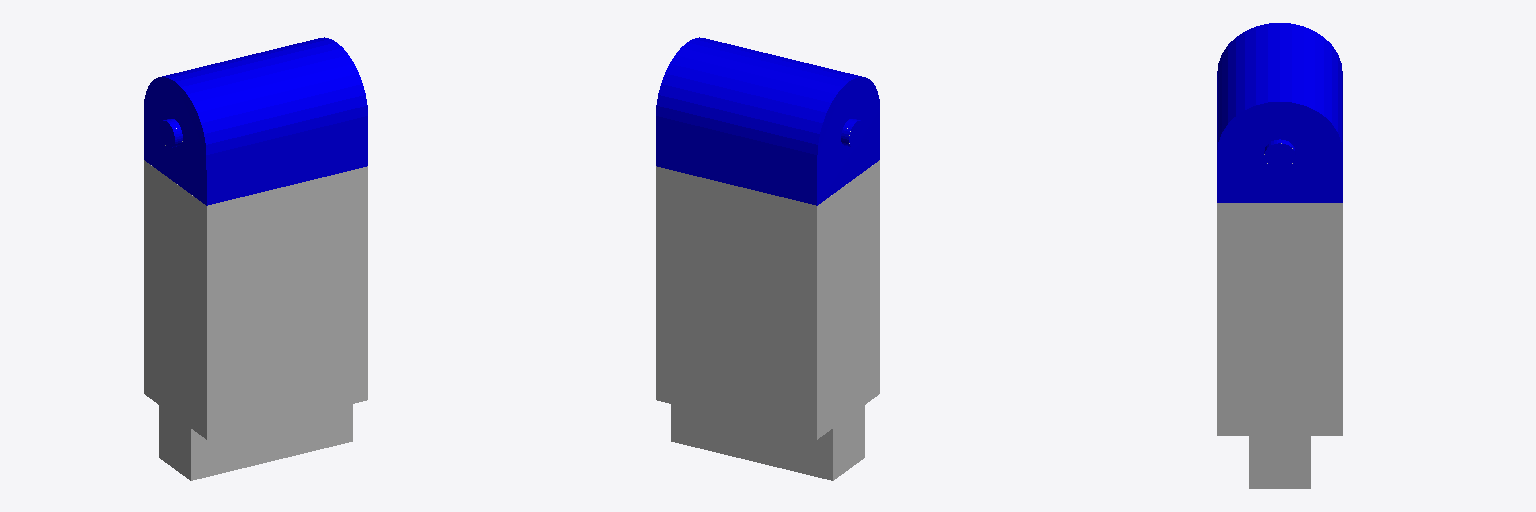
The picture shows the model from 3 angles: view 1: azimuth 30°, elevation 25°; view 2: azimuth 150°, elevation 25°; view 3: azimuth 270°, elevation 25°; orthographic projection.
Parts seen in each view (by area): view 1: body_l_prox_pinvpin2_Cube.577; view 2: body_l_prox_pinvpin2_Cube.577; view 3: body_l_prox_pinvpin2_Cube.577.
Boxes of the visible parts, x1,y1,x2,y2 form: body_l_prox_pinvpin2_Cube.577: [144, 37, 367, 480]; body_l_prox_pinvpin2_Cube.577: [656, 37, 879, 480]; body_l_prox_pinvpin2_Cube.577: [1217, 23, 1342, 488].
Size of the model in its own units: 0.352 by 0.7334 by 0.215.
2 materials, 1 textured.